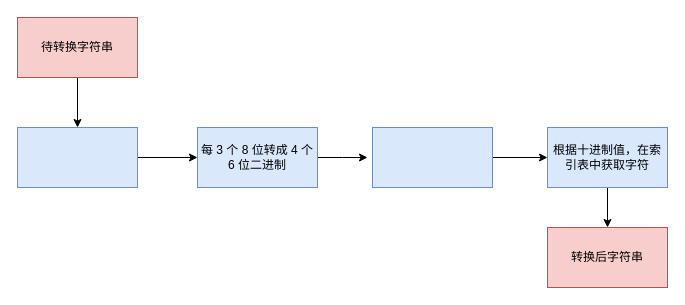
The diagram is 685 pixels wide and 305 high, and some of its shapes have lost their labels. The shapes that lost their labels are listed below. From the top down, each one's centre as x and y in pixels, then its label:
At point 77,157: "字符串转二进制数据流".
At point 432,157: "6 位二进制，转换为十进制".
